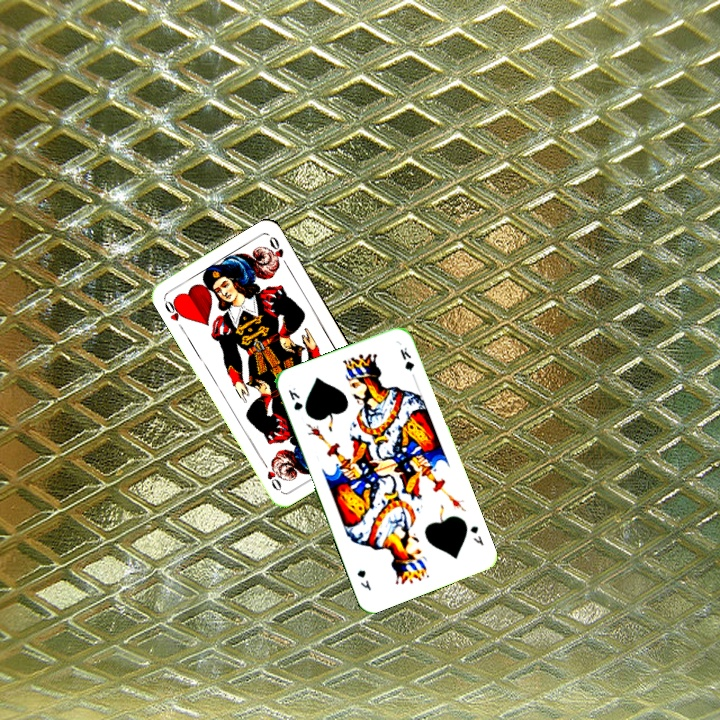GK: (284, 384, 305, 413), (466, 522, 486, 548)
HO: (160, 295, 188, 324)
